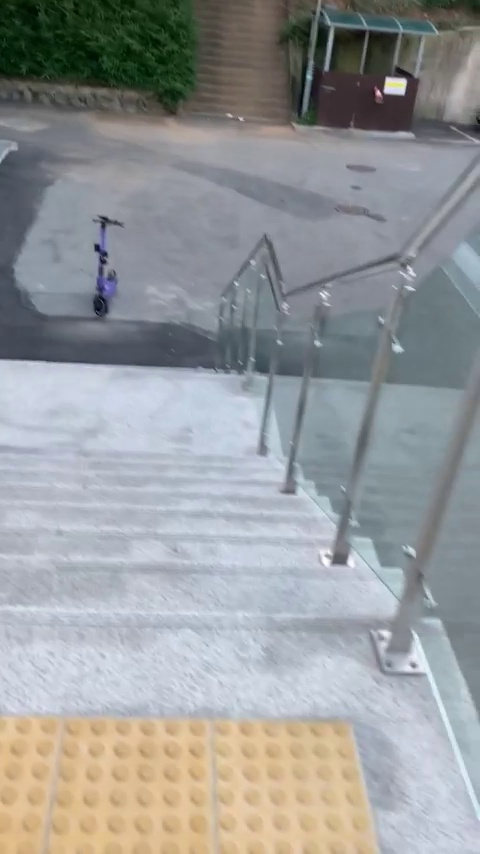beam: (80, 211, 130, 316)
